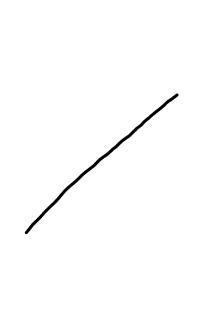Line: (20, 90, 181, 236)
